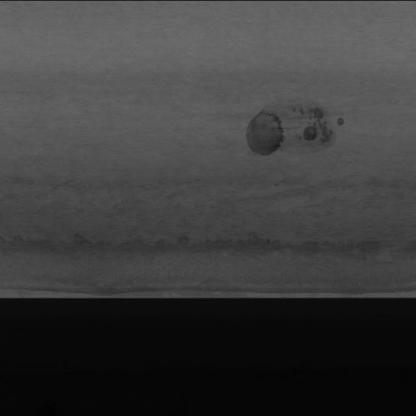oil_spot: (242, 95, 358, 157)
silk_spot: (16, 172, 404, 262)
